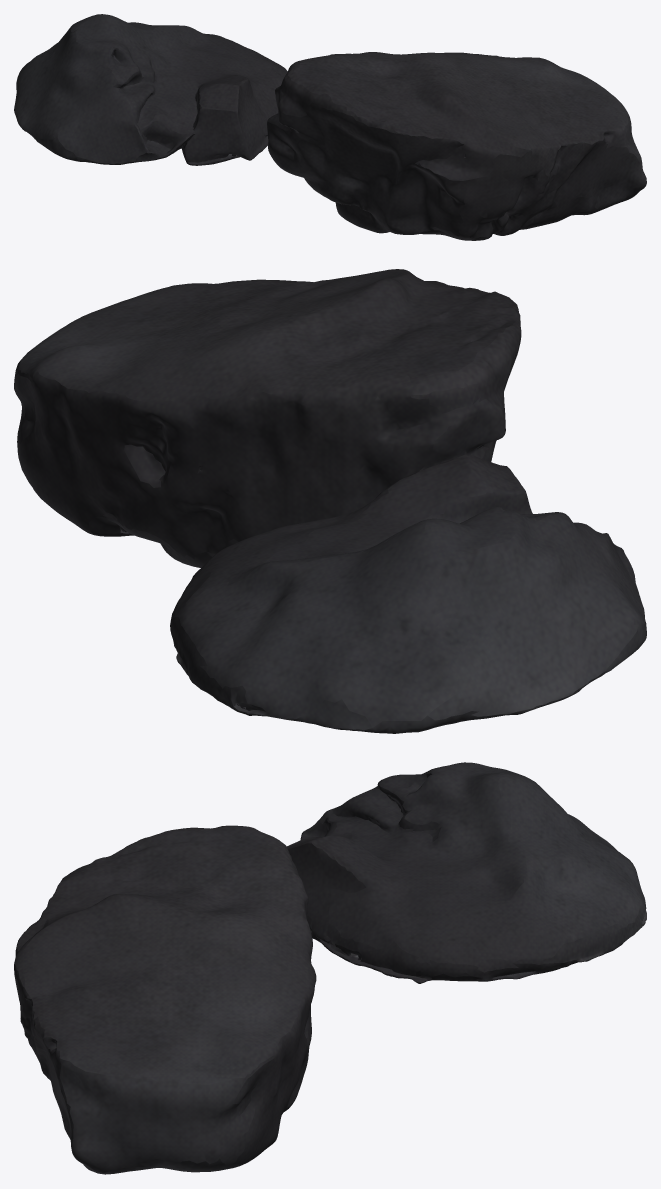
The picture shows the model from 3 angles, top to bottom: view 1: azimuth 30°, elevation 25°; view 2: azimuth 150°, elevation 25°; view 3: azimuth 270°, elevation 25°; orthographic projection. The views are drawn at different scales.
Visible parts, largest first — view 1: world; view 2: world; view 3: world.
Part boxes in pixels (x1,y1,x2,y2): world: (14, 14, 646, 240); world: (14, 269, 646, 733); world: (14, 762, 646, 1174).
Size of the model in its own units: 1.2 by 0.3742 by 1.14.
Materials: 1 (1 with a texture image).
